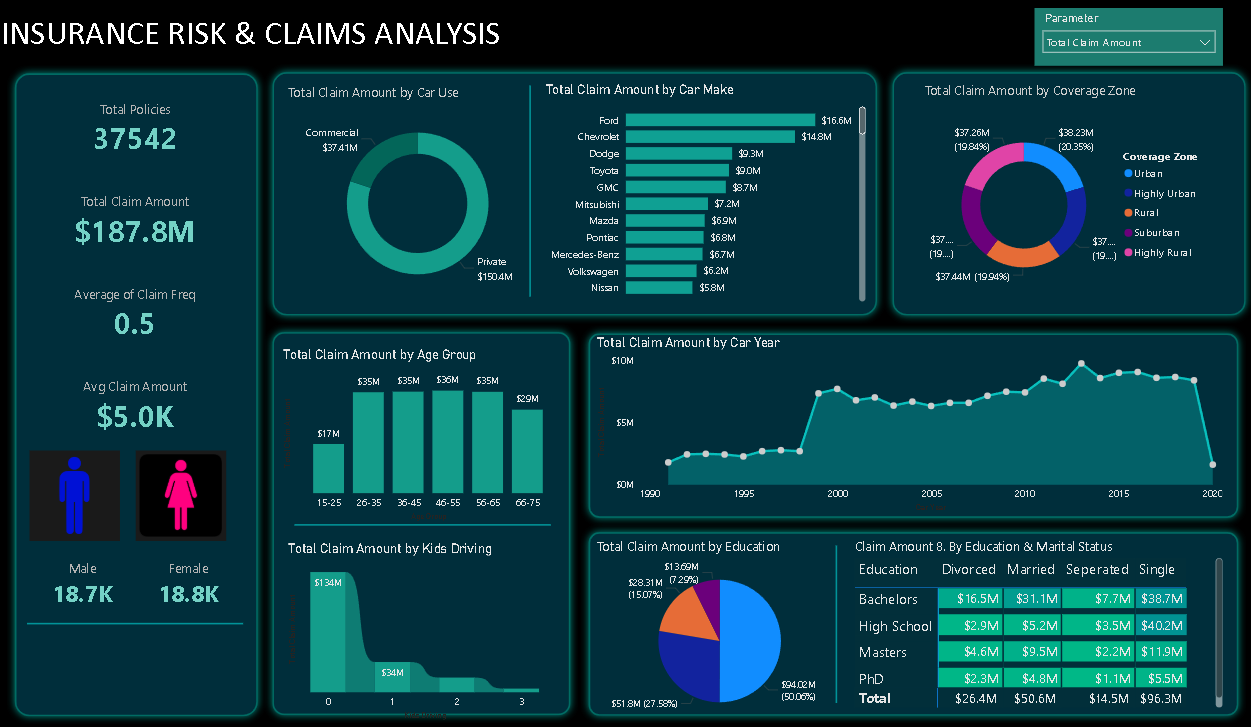

Layout of this report page (visuals, bound fields, positions):
{"tool":"powerbi","page":{"name":"Page 1","canvas":[1600,950],"ordinal":0},"visuals":[{"type":"textbox","box":[0,12,681,73.8],"z":0},{"type":"shape","box":[12,85.8,329.3,838.8],"z":1000},{"type":"cardVisual","fields":{"Data":["insurance_data_car.Total Policies","insurance_data_car.Total Claim Amount","Avg(insurance_data_car.Claim Freq)","insurance_data_car.Avg Claim Amount"]},"box":[41.2,111.5,269.3,464.8],"z":2000},{"type":"cardVisual","fields":{"Data":["insurance_data_car.Male Count","insurance_data_car.Female Count"]},"box":[46.3,691.3,260.7,109.8],"z":3000},{"type":"image","box":[41.2,576.3,114.9,114.9],"z":4000},{"type":"image","box":[176.7,576.3,114.9,114.9],"z":5000},{"type":"slicer","fields":{"Values":["Parameter.Parameter"]},"box":[1320.8,12,240.1,73.8],"z":6000},{"type":"shape","box":[340,85,790,330],"z":7000},{"type":"donutChart","fields":{"Y":["insurance_data_car.Total Claim Amount"],"Category":["insurance_data_car.Car Use"]},"box":[365.4,108.1,339.6,284.7],"z":8000},{"type":"clusteredBarChart","fields":{"Y":["insurance_data_car.Total Claim Amount"],"Category":["insurance_data_car.Car Make"]},"box":[694,106.7,417.1,284.9],"z":9000},{"type":"shape","box":[1130,85,470,330],"z":10000},{"type":"donutChart","fields":{"Y":["insurance_data_car.Total Claim Amount"],"Category":["insurance_data_car.Coverage Zone"]},"box":[1176.7,105,375,295],"z":11000},{"type":"shape","box":[340.7,415.5,399.5,507.8],"z":12000},{"type":"clusteredColumnChart","fields":{"Y":["insurance_data_car.Total Claim Amount"],"Category":["insurance_data_car.Age Group"]},"box":[360.2,444.3,361.9,226.4],"z":13000},{"type":"ribbonChart","fields":{"Y":["insurance_data_car.Total Claim Amount"],"Category":["insurance_data_car.Kids Driving"]},"box":[365.4,691.3,339.6,233.3],"z":14000},{"type":"shape","box":[742.7,416.8,847.3,255],"z":15000},{"type":"areaChart","fields":{"Y":["insurance_data_car.Total Claim Amount"],"Category":["insurance_data_car.Car Year"]},"box":[759.9,428.8,806.2,231.6],"z":16000},{"type":"shape","box":[742.7,670.7,847.3,253.9],"z":17000},{"type":"pieChart","fields":{"Y":["insurance_data_car.Total Claim Amount"],"Category":["insurance_data_car.Education"]},"box":[759.9,686.1,322.5,243.6],"z":18000},{"type":"pivotTable","title":"Claim Amount 8.\tBy Education & Marital Status ","fields":{"Rows":["insurance_data_car.Education"],"Columns":["insurance_data_car.Marital Status"],"Values":["insurance_data_car.Total Claim Amount"]},"box":[1087.5,686.1,478.6,223],"z":19000},{"type":"shape","box":[636.7,111.4,84.4,269],"z":20000},{"type":"shape","box":[1026.7,697.2,84.4,200.6],"z":21000},{"type":"shape","box":[378.9,641.5,326.3,58.9],"z":22000},{"type":"shape","box":[38.2,767.3,275.4,58.9],"z":23000}]}

Visuals, with their boxes in screenshot pixels (x1, y1, x2, y2), scaled from the page's 1600x950 canvas onto the 1251x727 screenshot:
textbox: [0, 9, 532, 66]
shape: [9, 66, 267, 708]
cardVisual - insurance_data_car.Total Policies x insurance_data_car.Total Claim Amount: [32, 85, 243, 441]
cardVisual - insurance_data_car.Male Count x insurance_data_car.Female Count: [36, 529, 240, 613]
image: [32, 441, 122, 529]
image: [138, 441, 228, 529]
slicer - Parameter.Parameter: [1033, 9, 1220, 66]
shape: [266, 65, 884, 318]
donutChart - insurance_data_car.Total Claim Amount x insurance_data_car.Car Use: [286, 83, 551, 301]
clusteredBarChart - insurance_data_car.Total Claim Amount x insurance_data_car.Car Make: [543, 82, 869, 300]
shape: [884, 65, 1250, 318]
donutChart - insurance_data_car.Total Claim Amount x insurance_data_car.Coverage Zone: [920, 80, 1213, 306]
shape: [266, 318, 579, 707]
clusteredColumnChart - insurance_data_car.Total Claim Amount x insurance_data_car.Age Group: [282, 340, 565, 513]
ribbonChart - insurance_data_car.Total Claim Amount x insurance_data_car.Kids Driving: [286, 529, 551, 708]
shape: [581, 319, 1243, 514]
areaChart - insurance_data_car.Total Claim Amount x insurance_data_car.Car Year: [594, 328, 1224, 505]
shape: [581, 513, 1243, 708]
pieChart - insurance_data_car.Total Claim Amount x insurance_data_car.Education: [594, 525, 846, 711]
"Claim Amount 8.	By Education & Marital Status " pivotTable: [850, 525, 1224, 696]
shape: [498, 85, 564, 291]
shape: [803, 534, 869, 687]
shape: [296, 491, 551, 536]
shape: [30, 587, 245, 632]
